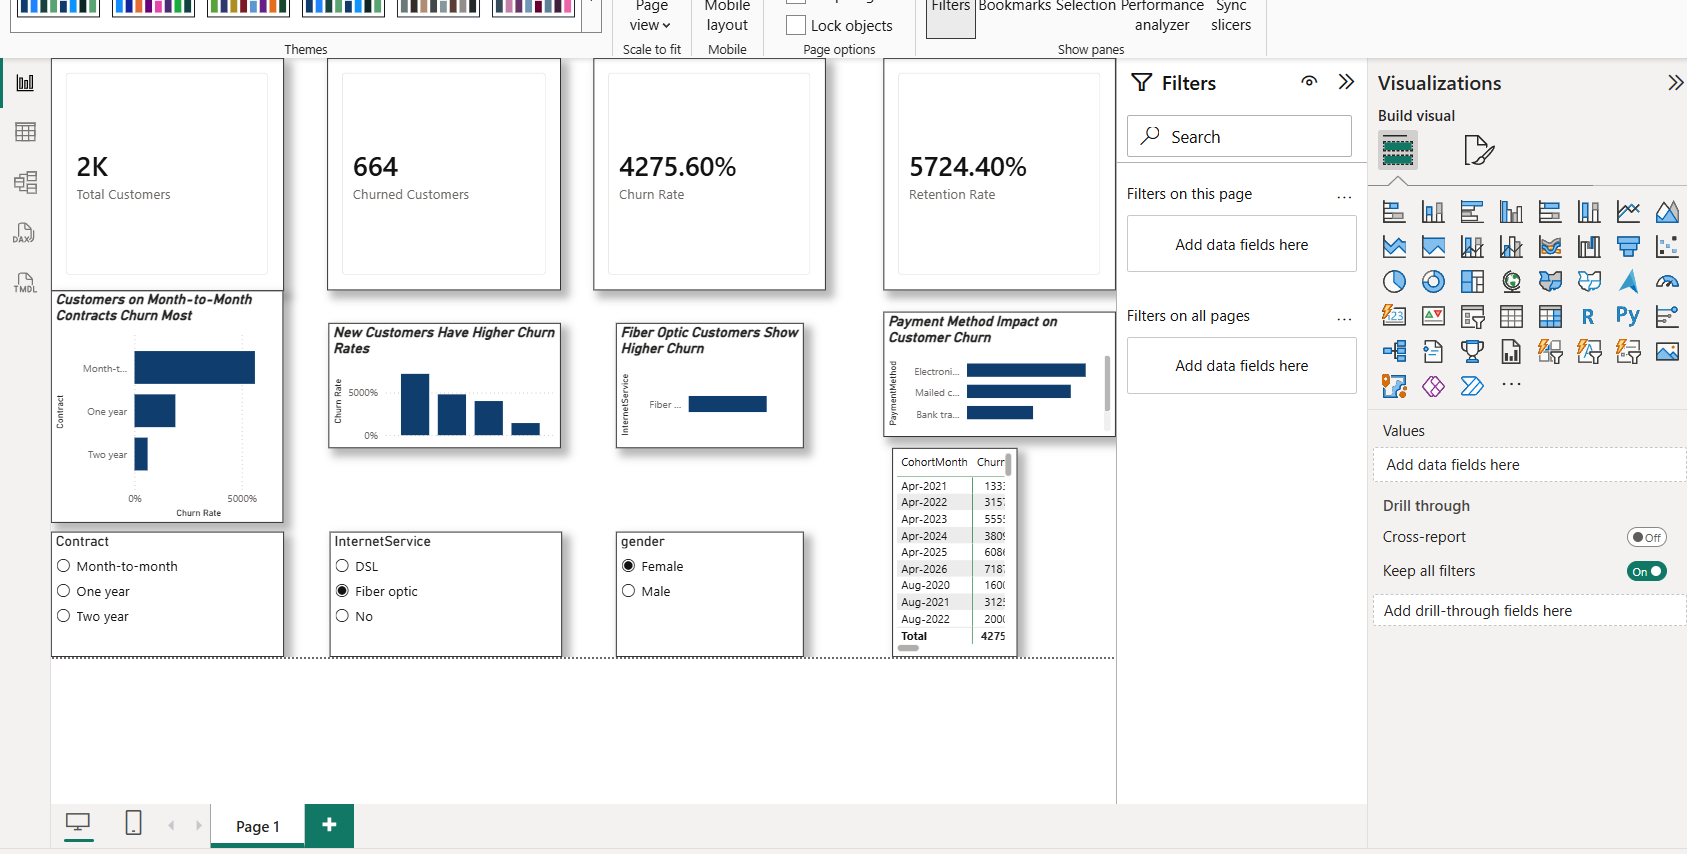

What the dashboard file says about the page in this screenshot:
{"tool":"powerbi","page":{"name":"Page 1","canvas":[1280,720],"ordinal":0},"visuals":[{"type":"cardVisual","fields":{"Data":["TelcoChurn.Total Customers"]},"box":[0,0,279.9,279.9],"z":0},{"type":"cardVisual","fields":{"Data":["TelcoChurn.Churned Customers"]},"box":[332.1,0,281,279.5],"z":1000},{"type":"cardVisual","fields":{"Data":["TelcoChurn.Churn Rate"]},"box":[652.2,0,279.5,279.5],"z":2000},{"type":"cardVisual","fields":{"Data":["TelcoChurn.Retention Rate"]},"box":[1000.8,0,279.5,279.5],"z":3000},{"type":"clusteredBarChart","title":"Customers on Month-to-Month Contracts Churn Most","fields":{"Category":["TelcoChurn.Contract"],"Y":["TelcoChurn.Churn Rate"]},"box":[0,279.5,279.5,279.5],"z":4000},{"type":"clusteredColumnChart","title":"New Customers Have Higher Churn Rates","fields":{"Category":["TelcoChurn.TenureGroup"],"Y":["TelcoChurn.Churn Rate"]},"box":[333.6,318.6,279.5,150.3],"z":5000},{"type":"clusteredBarChart","title":"Fiber Optic Customers Show Higher Churn","fields":{"Category":["TelcoChurn.InternetService"],"Y":["TelcoChurn.Churn Rate"]},"box":[679.2,318.6,225.4,150.3],"z":6000},{"type":"clusteredBarChart","title":"Payment Method Impact on Customer Churn","fields":{"Y":["TelcoChurn.Churn Rate"],"Category":["TelcoChurn.PaymentMethod"]},"box":[1000.8,305,279.5,150.3],"z":7000},{"type":"pivotTable","fields":{"Rows":["TelcoChurn.CohortMonth"],"Values":["TelcoChurn.Churn Rate","TelcoChurn.Total Customers"]},"box":[1011.3,468.8,150.3,251],"z":8000},{"type":"listSlicer","fields":{"Values":["TelcoChurn.Contract"]},"box":[0,570,280,150],"z":9000},{"type":"listSlicer","fields":{"Values":["TelcoChurn.InternetService"]},"box":[335.1,569.5,279.5,150.3],"z":10000},{"type":"listSlicer","fields":{"Values":["TelcoChurn.gender"]},"box":[679.2,569.5,225.4,150.3],"z":11000}]}

Visuals, with their boxes on the page's 1280x720 design canvas (x1, y1, x2, y2). These are canvas units, not pixel positions in the 1687x854 screenshot, which may show the page scaled, cropped or inside an application window:
cardVisual - TelcoChurn.Total Customers: BBox(0, 0, 280, 280)
cardVisual - TelcoChurn.Churned Customers: BBox(332, 0, 613, 280)
cardVisual - TelcoChurn.Churn Rate: BBox(652, 0, 932, 280)
cardVisual - TelcoChurn.Retention Rate: BBox(1001, 0, 1280, 280)
"Customers on Month-to-Month Contracts Churn Most" clusteredBarChart: BBox(0, 280, 280, 559)
"New Customers Have Higher Churn Rates" clusteredColumnChart: BBox(334, 319, 613, 469)
"Fiber Optic Customers Show Higher Churn" clusteredBarChart: BBox(679, 319, 905, 469)
"Payment Method Impact on Customer Churn" clusteredBarChart: BBox(1001, 305, 1280, 455)
pivotTable - TelcoChurn.CohortMonth x TelcoChurn.Churn Rate: BBox(1011, 469, 1162, 720)
listSlicer - TelcoChurn.Contract: BBox(0, 570, 280, 720)
listSlicer - TelcoChurn.InternetService: BBox(335, 570, 615, 720)
listSlicer - TelcoChurn.gender: BBox(679, 570, 905, 720)
